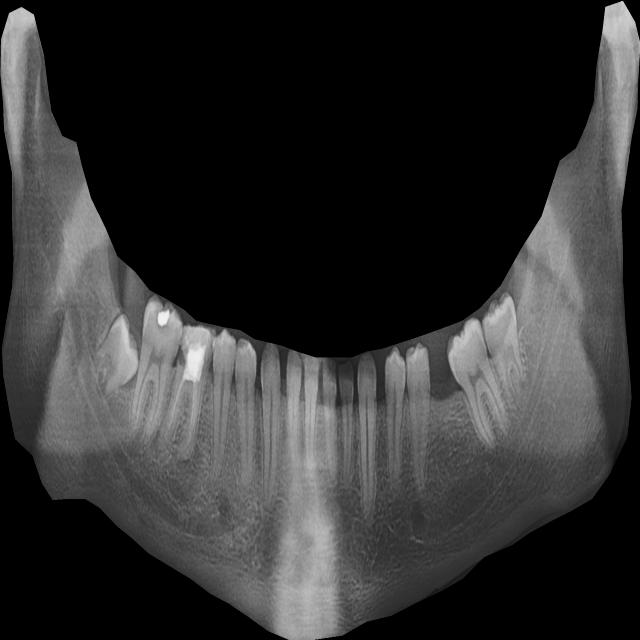mandibula: (0, 1, 640, 640)
